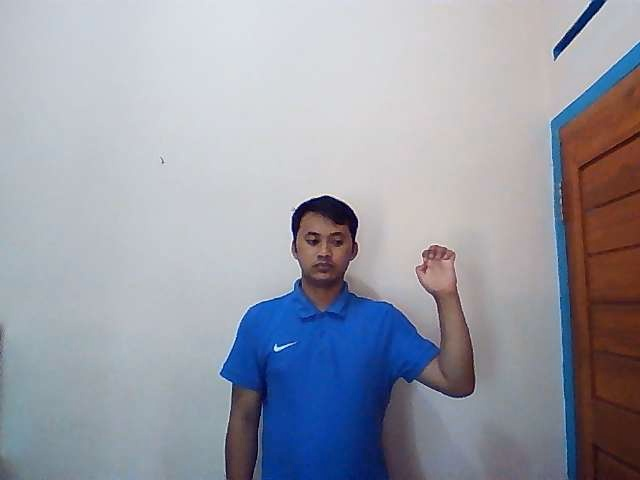E: (415, 244, 460, 294)
